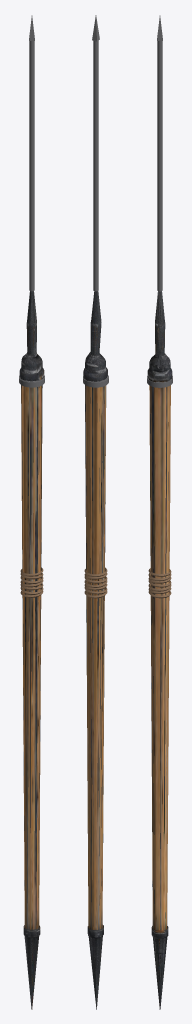
File: weap_roman_pilum_0.glb
3 renders of one model, left to right at view 1: azimuth 90°, elevation 25°; view 2: azimuth 150°, elevation 25°; view 3: azimuth 270°, elevation 25°, orthographic.
Visible parts, largest first — view 1: MeshyGear_weap_roman_pilum, Shank, Q_LE0_RepairThong, Q_GE3_JunctionCollar; view 2: MeshyGear_weap_roman_pilum, Shank, Q_LE0_RepairThong, Q_GE3_JunctionCollar, ShankHead; view 3: MeshyGear_weap_roman_pilum, Shank, Q_LE0_RepairThong, Q_GE3_JunctionCollar.
Boxes of the visible parts, x1,y1,x2,y2 form: MeshyGear_weap_roman_pilum: (19, 291, 44, 1009); Shank: (29, 37, 34, 291); Q_LE0_RepairThong: (20, 567, 43, 597); Q_GE3_JunctionCollar: (19, 375, 44, 387); MeshyGear_weap_roman_pilum: (83, 291, 107, 1009); Shank: (93, 37, 98, 291); Q_LE0_RepairThong: (84, 567, 107, 598); Q_GE3_JunctionCollar: (83, 375, 108, 387); ShankHead: (92, 15, 99, 41); MeshyGear_weap_roman_pilum: (147, 291, 172, 1009); Shank: (157, 37, 162, 291); Q_LE0_RepairThong: (148, 568, 171, 598); Q_GE3_JunctionCollar: (147, 376, 172, 387).
Bounding box in the file's own units: 0.0476 × 2 × 0.0476.
3 materials, 1 textured.
